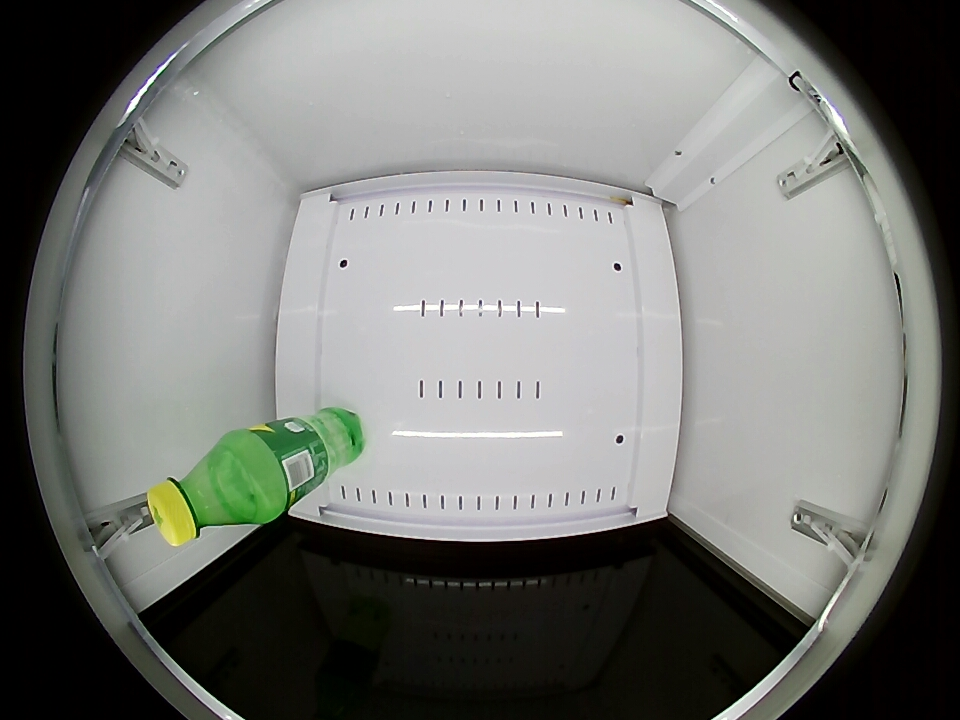xuebi-b: (148, 441, 263, 547)
